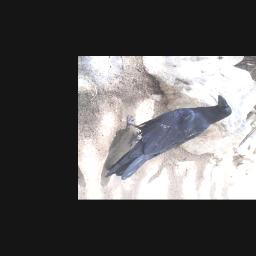Crow: (93, 93, 241, 180)
